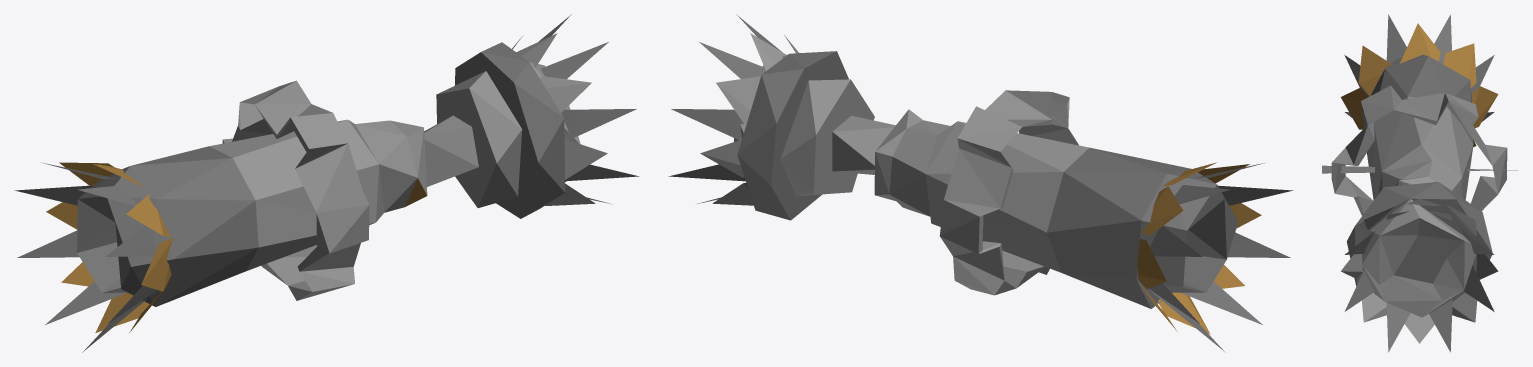
The model's file is kit_laser.glb.
The picture shows the model from 3 angles, left to right: view 1: azimuth 30°, elevation 25°; view 2: azimuth 150°, elevation 25°; view 3: azimuth 270°, elevation 25°; orthographic projection. The views are drawn at different scales.
Visible parts, largest first — view 1: kit_laser; view 2: kit_laser; view 3: kit_laser.
Boxes of the visible parts, bbox=[...] form: kit_laser: bbox=[14, 14, 639, 352]; kit_laser: bbox=[668, 14, 1293, 352]; kit_laser: bbox=[1322, 14, 1517, 352].
Bounding box in the file's own units: 3.83 × 1.28 × 1.46.
